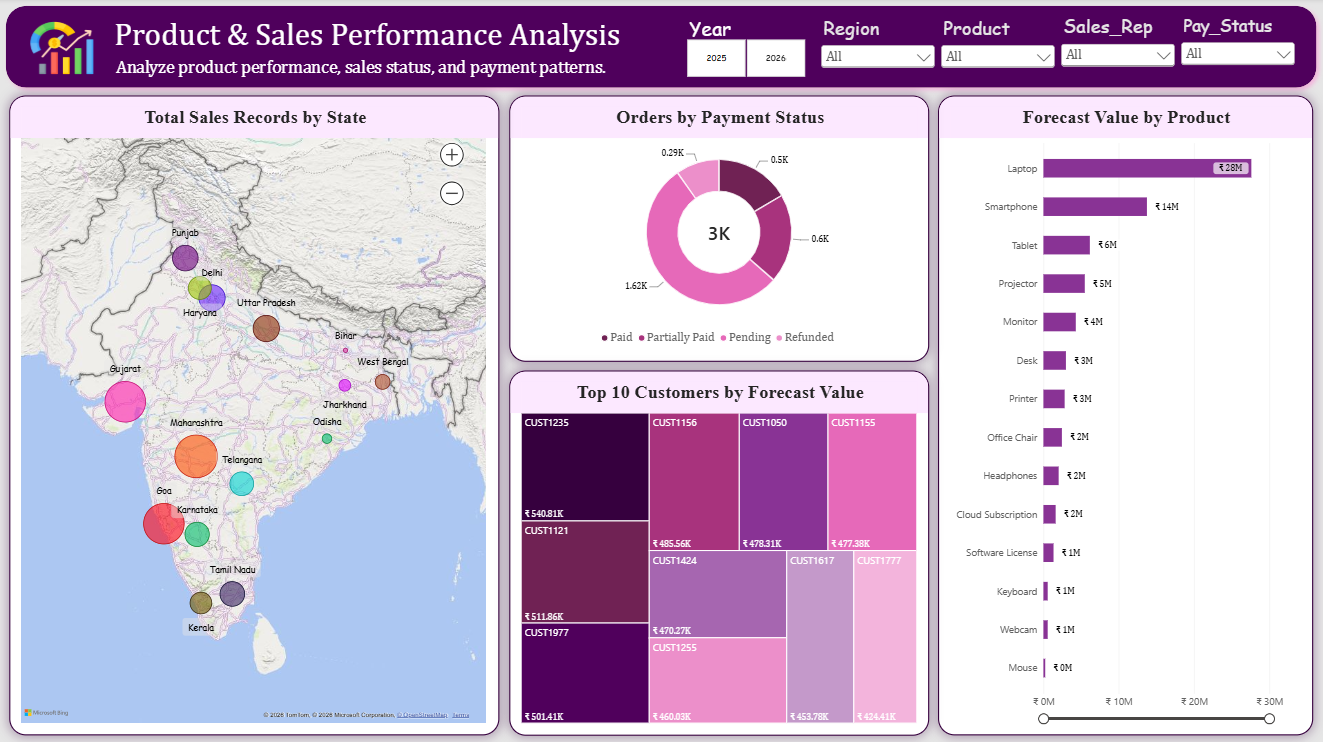

Layout of this report page (visuals, bound fields, positions):
{"tool":"powerbi","page":{"name":"Performance Analysis","canvas":[1920,1080],"ordinal":2},"visuals":[{"type":"shape","box":[0,0,1920.1,141.2],"z":0},{"type":"textbox","title":"Product & Sales Performance Analysis","box":[168.3,29,754.6,61.5],"z":1000},{"type":"image","box":[45.2,30.8,94.1,83.2],"z":2000},{"type":"textbox","title":"Analyze product performance, sales status, and payment patterns.","box":[170.1,86.9,723.9,39.8],"z":3000},{"type":"clusteredBarChart","fields":{"Category":["Sales_Data.Product"],"Y":["Sales_Data.Forecast Value"]},"box":[1360.9,141.2,542.9,926.5],"z":4000},{"type":"donutChart","title":"Orders by Payment Status","fields":{"Category":["Sales_Data.Payment_Status"],"Y":["CountNonNull(Sales_Data.Order_ID)"]},"box":[740.2,141.2,608,385.5],"z":5000},{"type":"map","fields":{"Category":["Sales_Data.State"],"Size":["Sales_Data.Total Sales Records"]},"box":[16.3,141.2,709.4,926.5],"z":7000},{"type":"treemap","title":"Top 10 Customers by Forecast Value","fields":{"Group":["Sales_Data.Customer_ID"],"Values":["Sales_Data.Forecast Value"]},"box":[740.2,539.3,608,528.4],"z":8000},{"type":"slicer","fields":{"Values":["Dim_Date.Year"]},"box":[977.2,57.9,209.9,57.9],"z":8001},{"type":"slicer","fields":{"Values":["Sales_Data.Region"]},"box":[1187.1,23.5,173.7,103.2],"z":8002},{"type":"textbox","title":"Year","box":[1000.7,23.5,112.2,45.2],"z":8003},{"type":"slicer","fields":{"Values":["Sales_Data.Product"]},"box":[1360.9,23.5,173.7,103.2],"z":8004},{"type":"slicer","fields":{"Values":["Sales_Data.Payment_Status"]},"box":[1708.3,23.5,173.7,103.2],"z":8005},{"type":"slicer","fields":{"Values":["Sales_Data.Sales_Rep"]},"box":[1534.6,21.7,173.7,103.2],"z":8006}]}

Visuals, with their boxes in screenshot pixels (x1, y1, x2, y2), scaled from the page's 1920x1080 canvas onto the 1323x742 screenshot:
shape: {"left": 0, "top": 0, "right": 1322, "bottom": 97}
"Product & Sales Performance Analysis" textbox: {"left": 116, "top": 20, "right": 636, "bottom": 62}
image: {"left": 31, "top": 21, "right": 96, "bottom": 78}
"Analyze product performance, sales status, and payment patterns." textbox: {"left": 117, "top": 60, "right": 616, "bottom": 87}
clusteredBarChart - Sales_Data.Product x Sales_Data.Forecast Value: {"left": 938, "top": 97, "right": 1312, "bottom": 734}
"Orders by Payment Status" donutChart: {"left": 510, "top": 97, "right": 929, "bottom": 362}
map - Sales_Data.State x Sales_Data.Total Sales Records: {"left": 11, "top": 97, "right": 500, "bottom": 734}
"Top 10 Customers by Forecast Value" treemap: {"left": 510, "top": 371, "right": 929, "bottom": 734}
slicer - Dim_Date.Year: {"left": 673, "top": 40, "right": 818, "bottom": 80}
slicer - Sales_Data.Region: {"left": 818, "top": 16, "right": 938, "bottom": 87}
"Year" textbox: {"left": 690, "top": 16, "right": 767, "bottom": 47}
slicer - Sales_Data.Product: {"left": 938, "top": 16, "right": 1057, "bottom": 87}
slicer - Sales_Data.Payment_Status: {"left": 1177, "top": 16, "right": 1297, "bottom": 87}
slicer - Sales_Data.Sales_Rep: {"left": 1057, "top": 15, "right": 1177, "bottom": 86}
